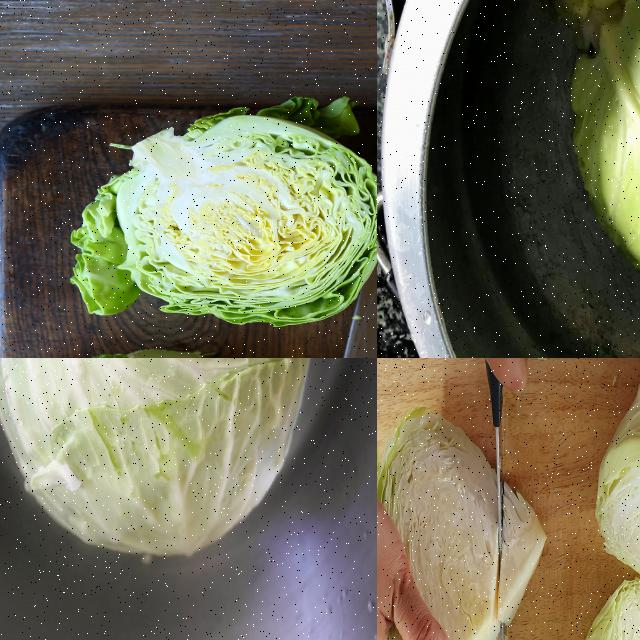cabbage: (66, 92, 376, 329), (0, 358, 319, 568), (377, 402, 547, 639), (571, 0, 639, 298), (593, 358, 639, 620)
